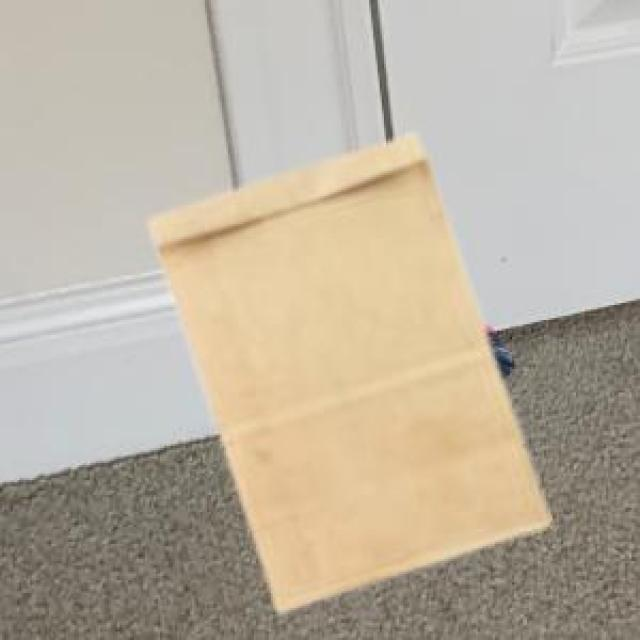miscellaneous trash: (479, 322, 510, 376)
paper: (147, 132, 544, 606)
